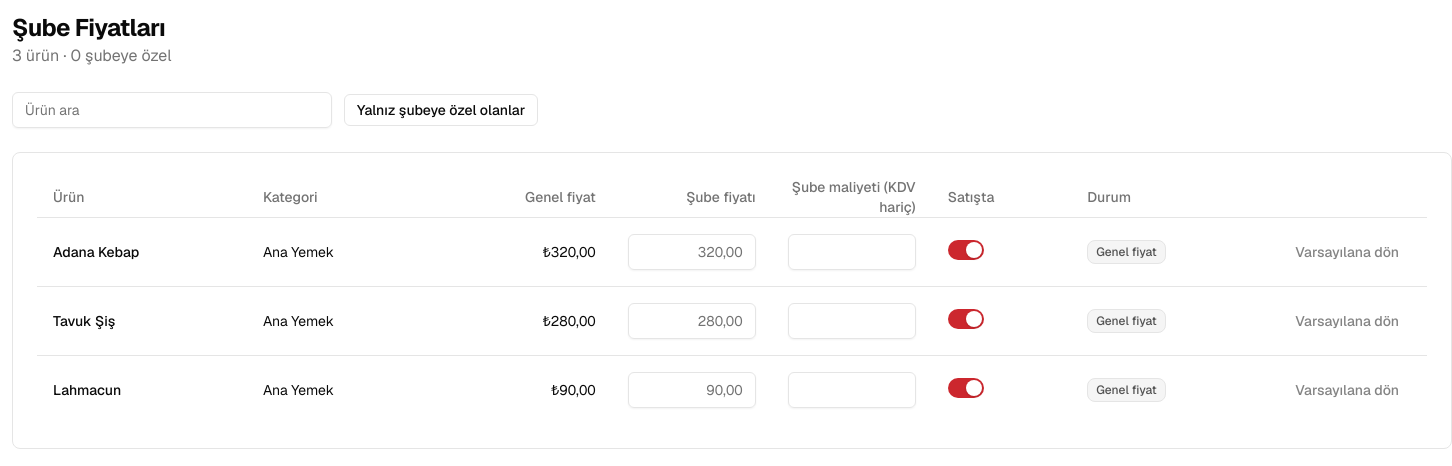
BranchPricing › filters by search text
This screenshot has width=1452, height=466.
expect the text "Adana Kebap" is shown: met, box [53,242,139,262]
Type "lahm" into the field with placeholder "Ürün ara". click: {"x": 172, "y": 110}
box: [12,92,332,128]
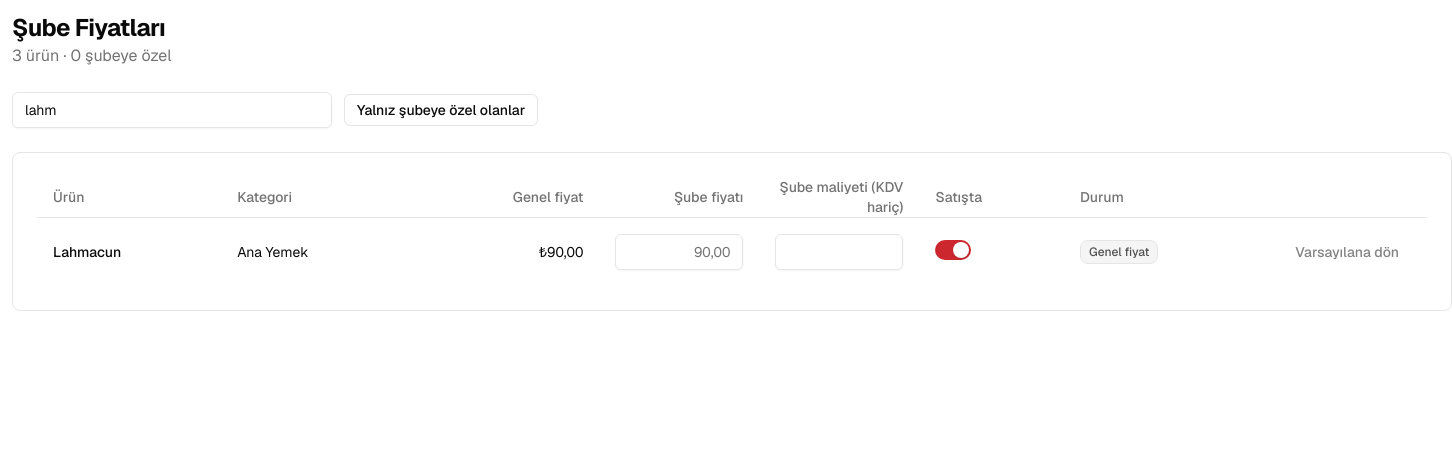
expect the text "Lahmacun" is shown: met, box [53,242,121,262]
expect the text "Adana Kebap" is gone: met
Replace the text in the field with placeholder "Ürün ara" with "zzz". click: {"x": 172, "y": 110}
box: [12,92,332,128]
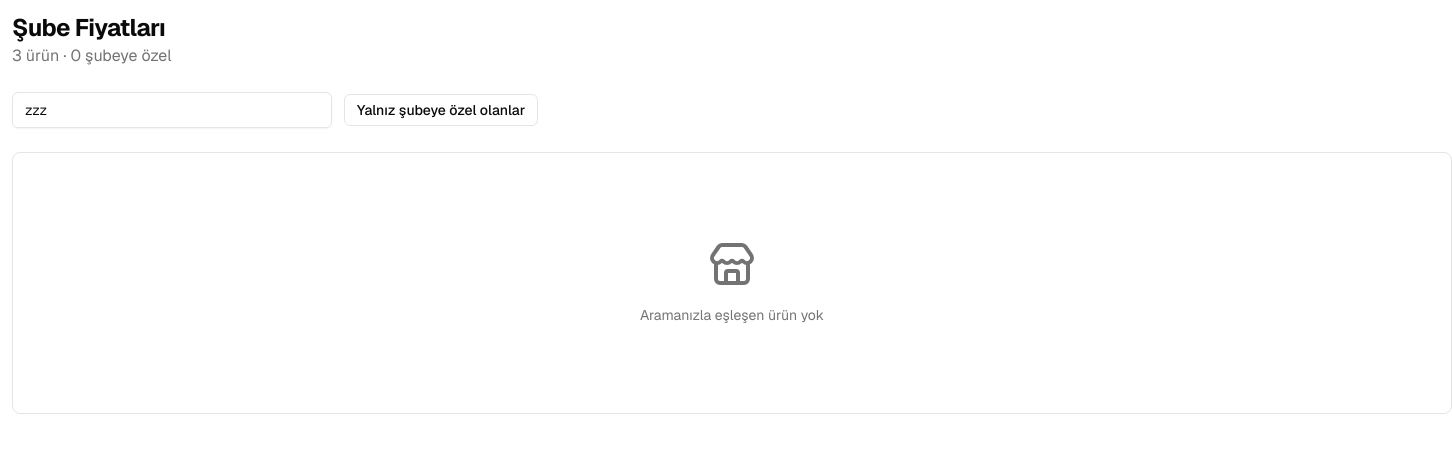
expect the text "Aramanızla eşleşen ürün yok" is shown: met, box [640,305,824,325]
